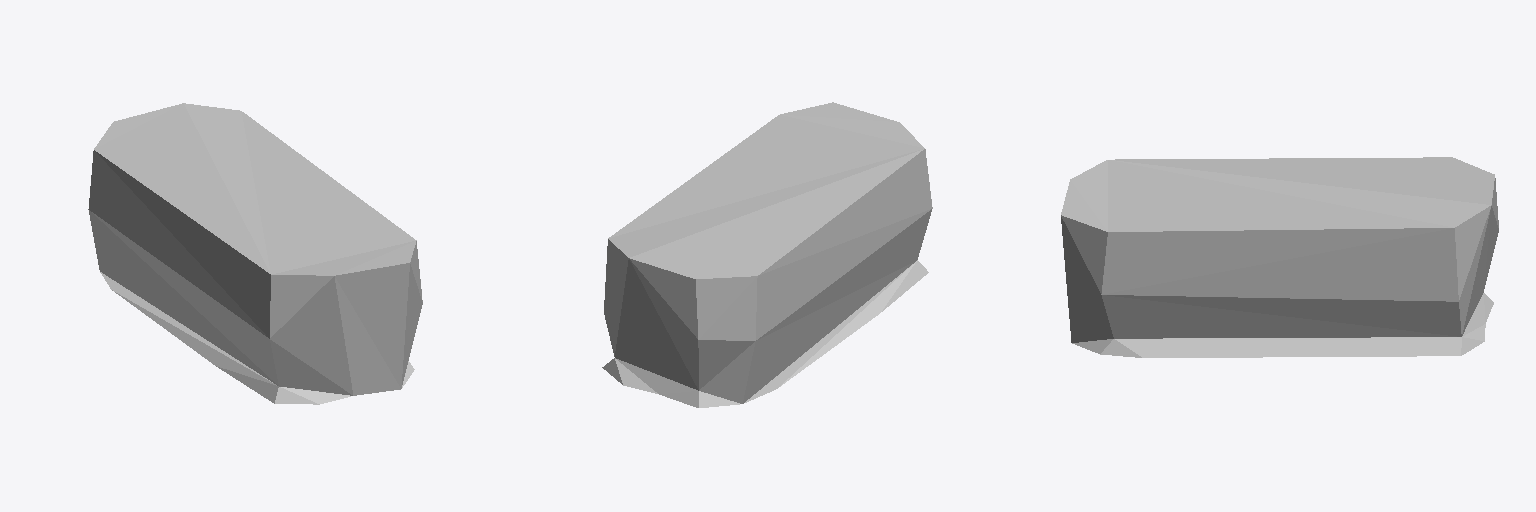
The model's file is Mesh_CavePack_Platform3_lod2.obj.
3 views of the same model, side by side, from view 1: azimuth 30°, elevation 25°; view 2: azimuth 150°, elevation 25°; view 3: azimuth 270°, elevation 25° (orthographic).
Parts seen in each view (by area): view 1: Circle.002; view 2: Circle.002; view 3: Circle.002.
Boxes of the visible parts, x1=… form: Circle.002: x1=88, y1=103, x2=422, y2=404; Circle.002: x1=602, y1=102, x2=932, y2=407; Circle.002: x1=1061, y1=157, x2=1498, y2=357.
Size of the model in its own units: 5.7 by 4.72 by 13.96.